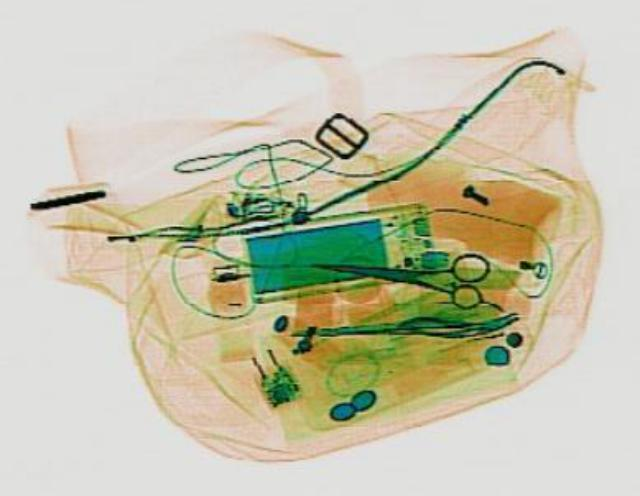Scissors: (305, 234, 489, 308)
